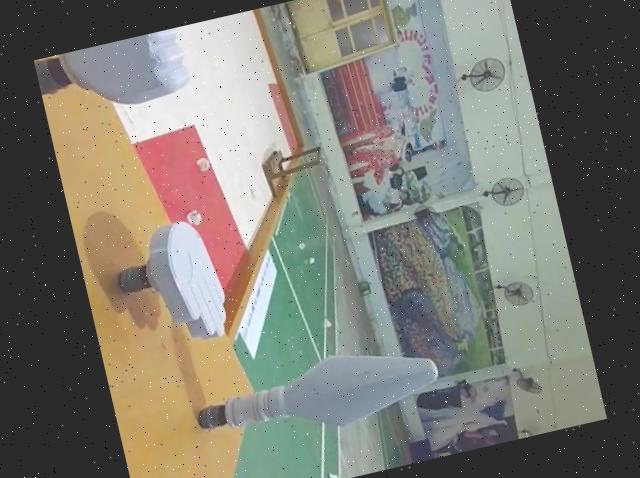Fist: (34, 21, 220, 124)
Hand: (101, 216, 239, 360)
Sph: (180, 332, 444, 465), (181, 325, 444, 457)
